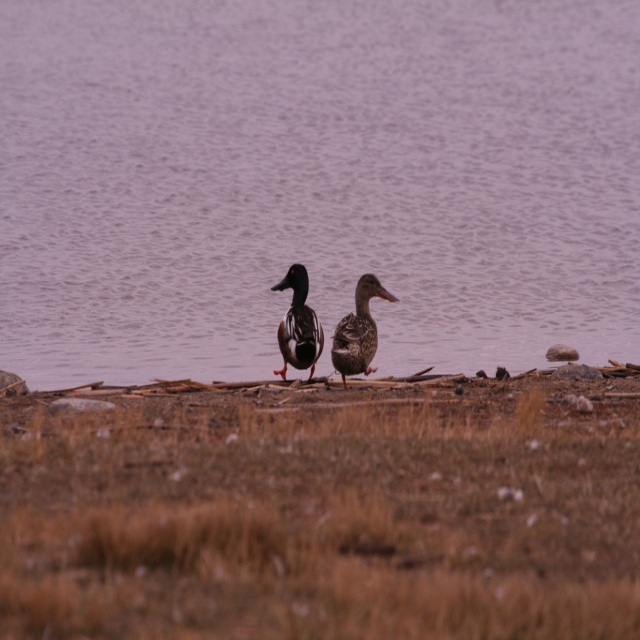Duck: (327, 265, 399, 377), (270, 262, 327, 386)
